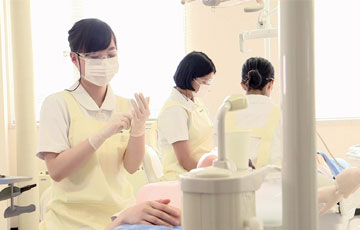mask: (82, 59, 119, 87)
